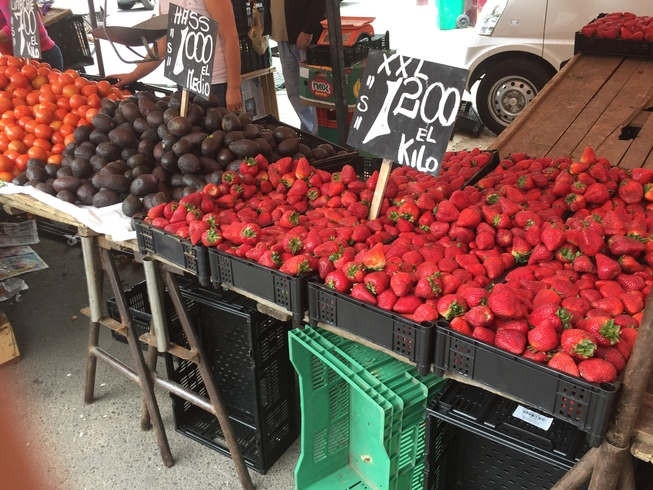precio: (341, 45, 469, 186), (159, 2, 223, 107), (6, 1, 49, 65)
